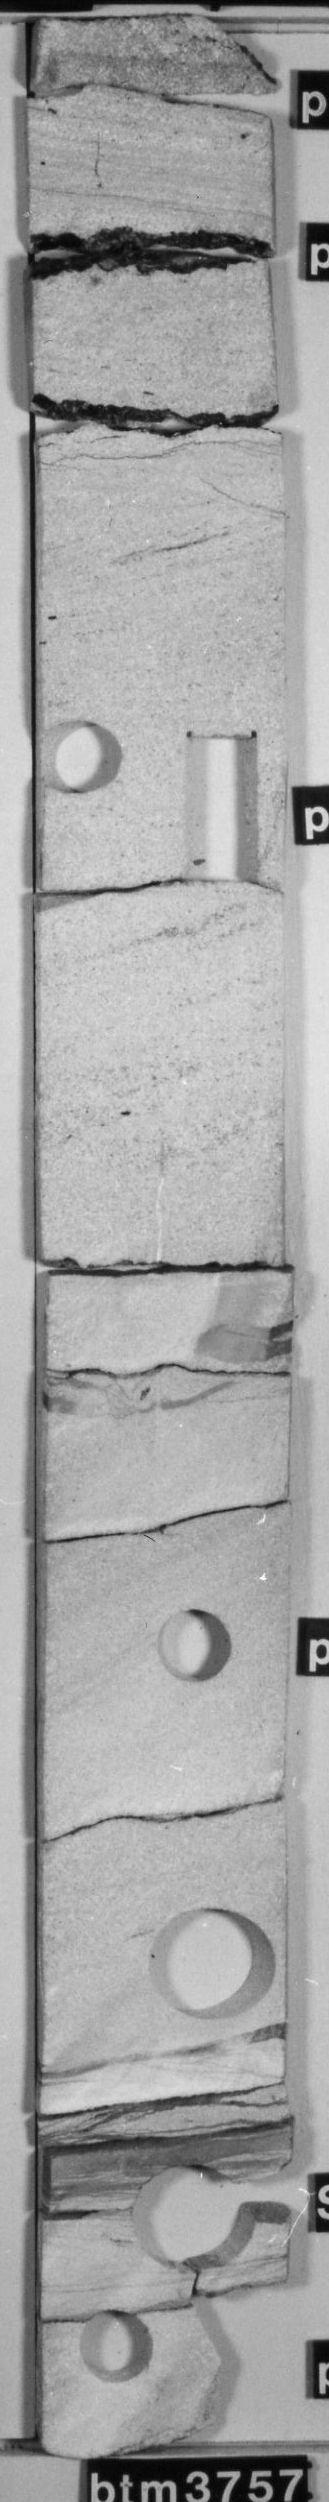hplug: (32, 38, 270, 132), (37, 716, 136, 809), (73, 2301, 166, 2393), (152, 1602, 244, 1690)
scal: (141, 1899, 281, 2030), (117, 2157, 254, 2282)
vplug: (177, 723, 265, 890)
